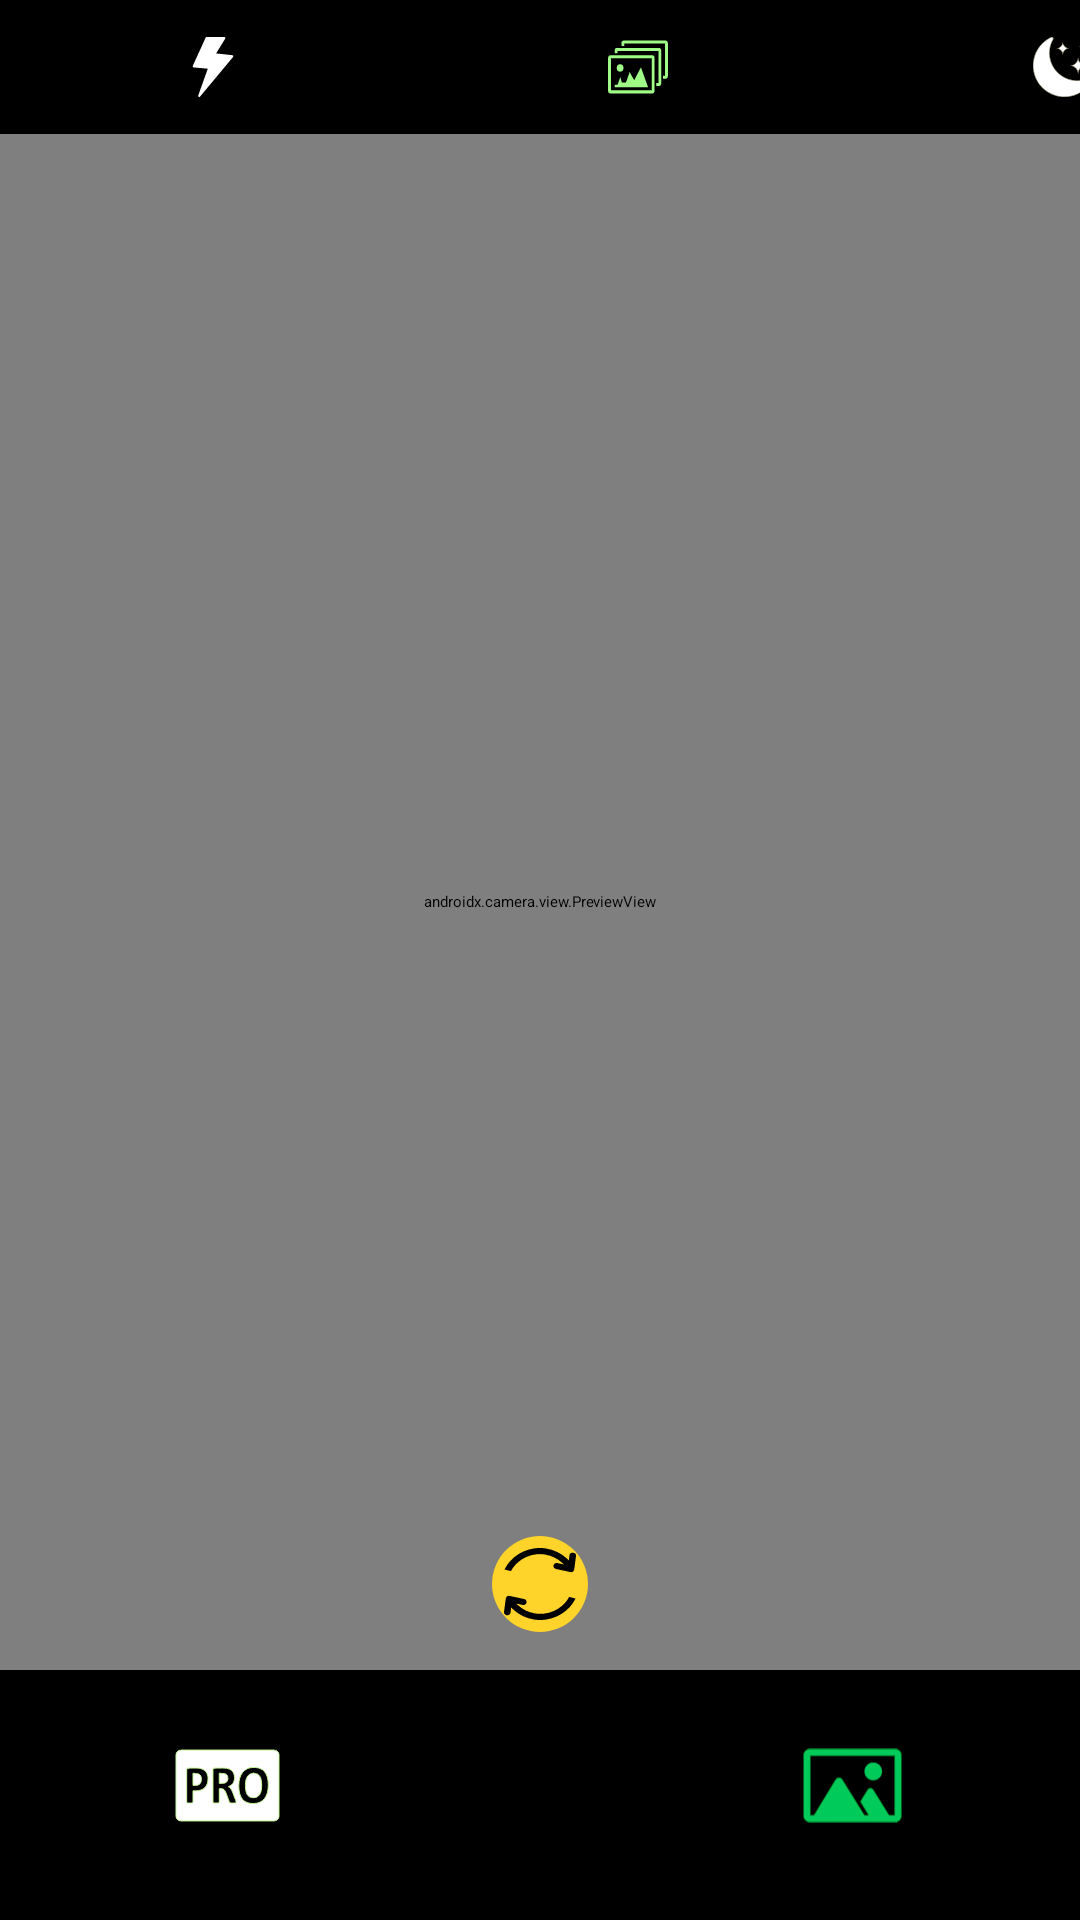

Named icons in this screenshot (1080*1920) and their centers, (x,y):
Button to switch camera: (540,1584)
Open the gallery: (852,1785)
Select the flash modality: (213,67)
Select the frame averaging modality: (638,67)
